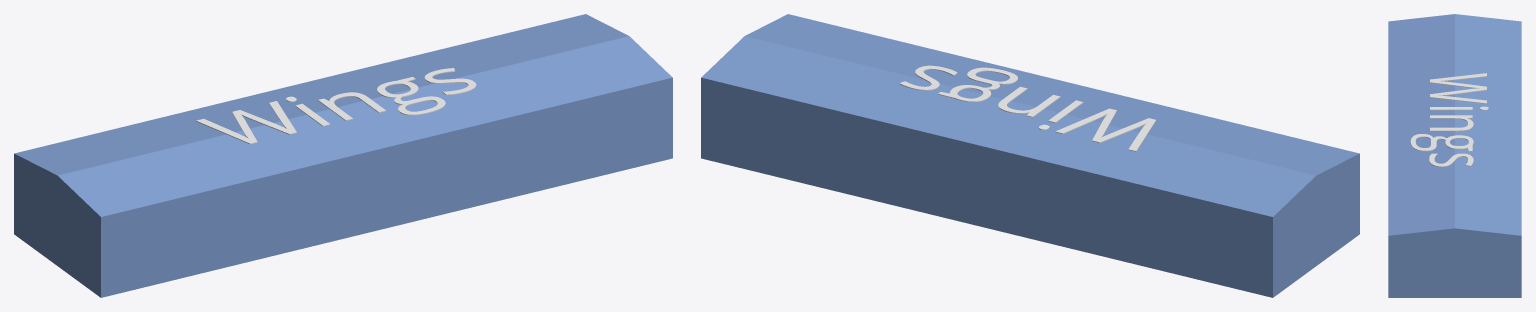
Rendered from Wings (1).glb.
3 renders of one model, left to right at view 1: azimuth 30°, elevation 25°; view 2: azimuth 150°, elevation 25°; view 3: azimuth 270°, elevation 25°, orthographic. The views are drawn at different scales.
Visible parts, largest first — view 1: 68914a50461bf5298c1029c0, 68914a50461bf5298c1029c0.001, 68914a50461bf5298c1029c0.005, 68914a50461bf5298c1029c0.004, 68914a50461bf5298c1029c0.006; view 2: 68914a50461bf5298c1029c0, 68914a50461bf5298c1029c0.001, 68914a50461bf5298c1029c0.005, 68914a50461bf5298c1029c0.004, 68914a50461bf5298c1029c0.006; view 3: 68914a50461bf5298c1029c0, 68914a50461bf5298c1029c0.001, 68914a50461bf5298c1029c0.005, 68914a50461bf5298c1029c0.004, 68914a50461bf5298c1029c0.006, 68914a50461bf5298c1029c0.002.
Part boxes in pixels (x1=…): 68914a50461bf5298c1029c0: x1=14, y1=14, x2=672, y2=297; 68914a50461bf5298c1029c0.001: x1=196, y1=101, x2=296, y2=144; 68914a50461bf5298c1029c0.005: x1=377, y1=77, x2=445, y2=115; 68914a50461bf5298c1029c0.004: x1=318, y1=92, x2=386, y2=120; 68914a50461bf5298c1029c0.006: x1=424, y1=68, x2=476, y2=95; 68914a50461bf5298c1029c0: x1=701, y1=14, x2=1359, y2=297; 68914a50461bf5298c1029c0.001: x1=1055, y1=108, x2=1156, y2=151; 68914a50461bf5298c1029c0.005: x1=938, y1=67, x2=1017, y2=102; 68914a50461bf5298c1029c0.004: x1=998, y1=86, x2=1060, y2=117; 68914a50461bf5298c1029c0.006: x1=899, y1=65, x2=957, y2=90; 68914a50461bf5298c1029c0: x1=1388, y1=14, x2=1521, y2=297; 68914a50461bf5298c1029c0.001: x1=1430, y1=73, x2=1486, y2=103; 68914a50461bf5298c1029c0.005: x1=1410, y1=134, x2=1473, y2=151; 68914a50461bf5298c1029c0.004: x1=1430, y1=115, x2=1473, y2=130; 68914a50461bf5298c1029c0.006: x1=1429, y1=153, x2=1473, y2=166; 68914a50461bf5298c1029c0.002: x1=1430, y1=107, x2=1472, y2=110.
Size of the model in its own units: 18.5 by 2.83 by 4.87.
